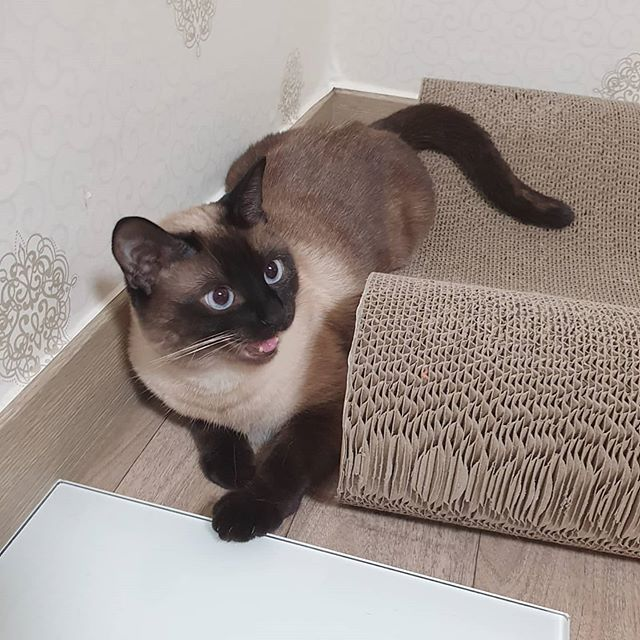cat: (114, 156, 307, 374)
